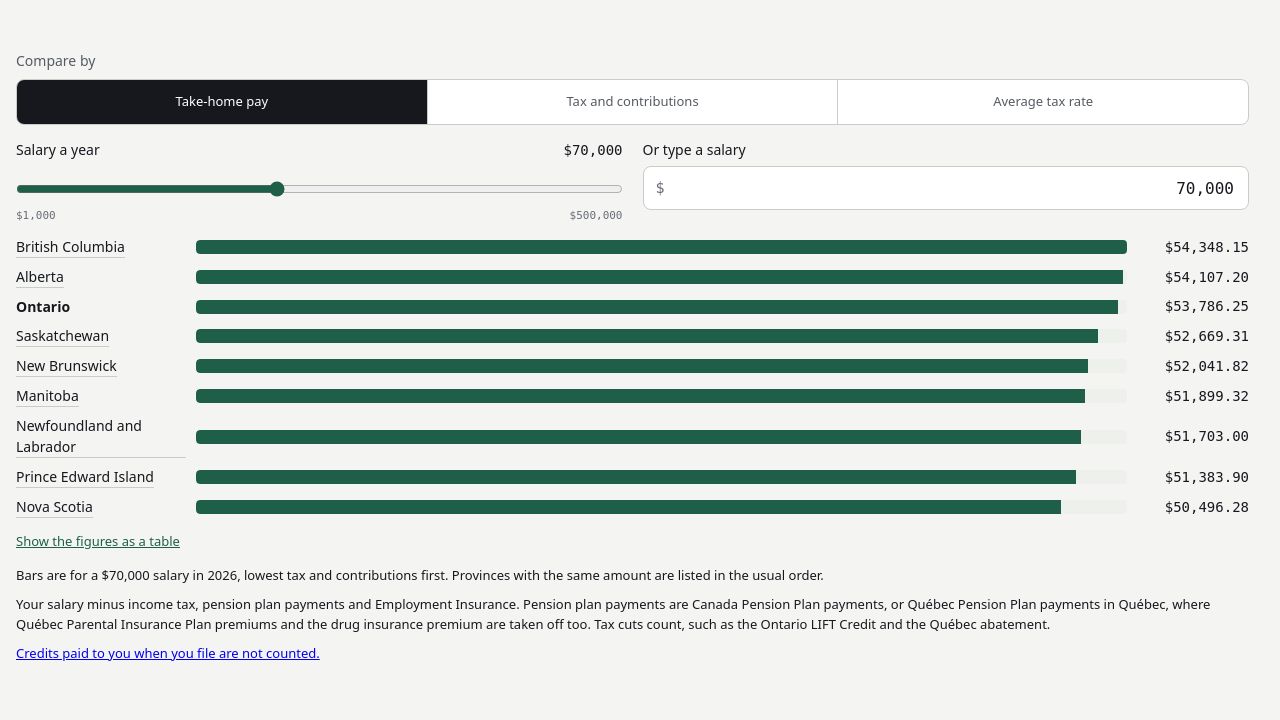
Test case: the measure toggle › shows the average rate as a percent, with the rate note
The image size is (1280, 720).
Click the radio button labelled "Average tax rate" at (1043, 102), box [837,80,1248,124]
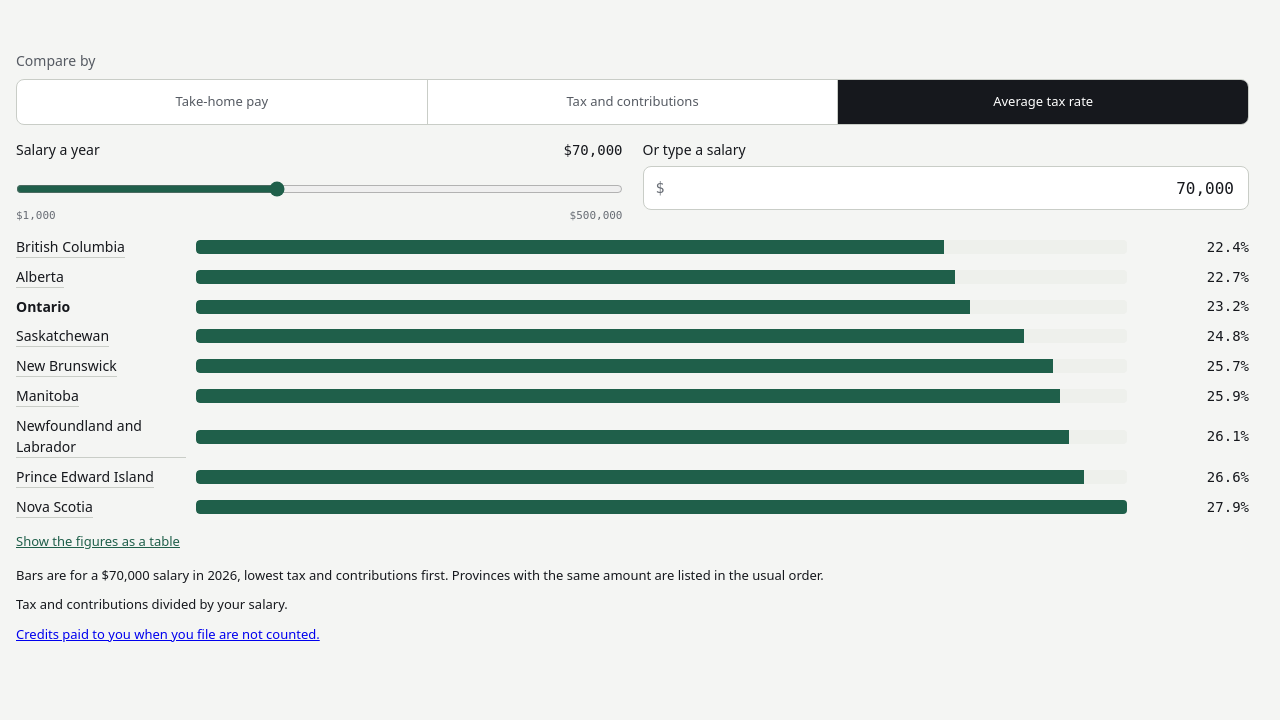
Now the text "Tax and contributions divided by your salary." is shown, box [16,595,288,613]
